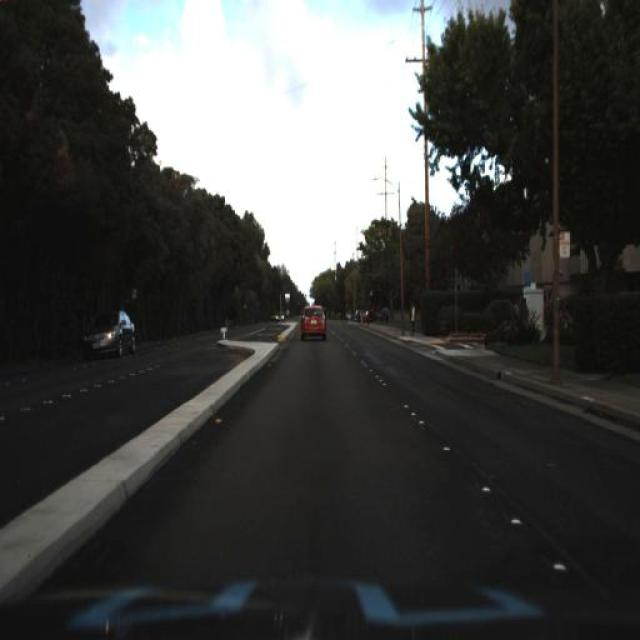car: (78, 298, 138, 367), (300, 300, 328, 341)
trafficLight: (406, 294, 422, 342)
